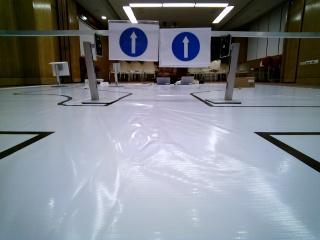straight: (108, 22, 158, 61), (159, 30, 211, 67)
